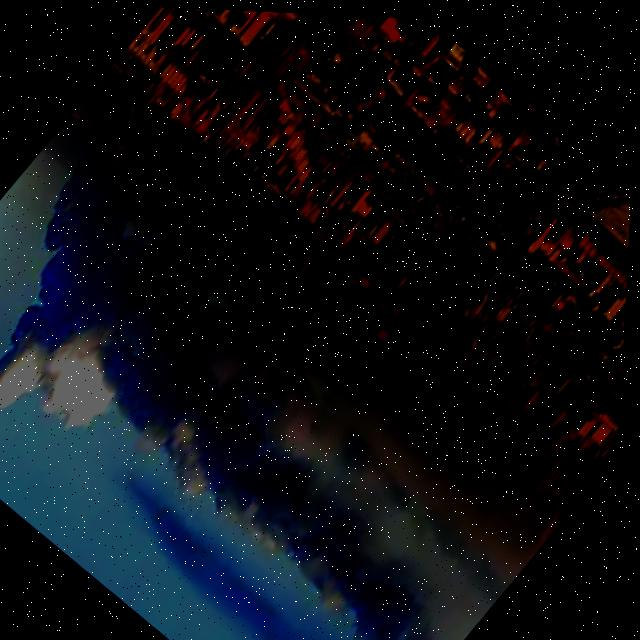Smoke: (0, 99, 426, 582)
